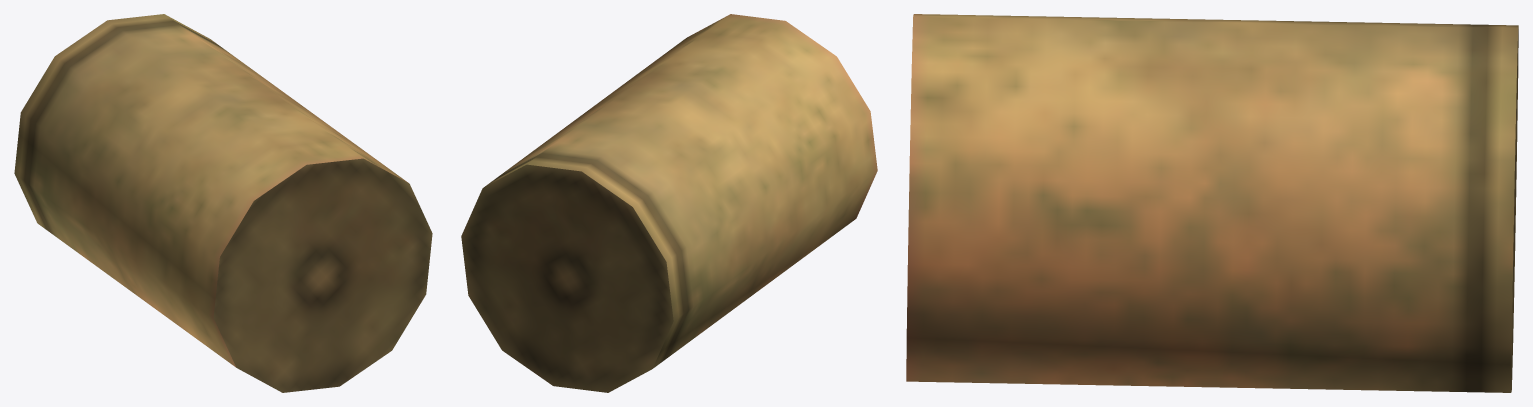
File: madsonD9_shell.fbx
The picture shows the model from 3 angles, left to right: view 1: azimuth 30°, elevation 25°; view 2: azimuth 150°, elevation 25°; view 3: azimuth 270°, elevation 25°; orthographic projection. The views are drawn at different scales.
Parts seen in each view (by area): view 1: madsond9_shell; view 2: madsond9_shell; view 3: madsond9_shell.
Part boxes in pixels (x1,y1,x2,y2): madsond9_shell: (14, 14, 432, 392); madsond9_shell: (461, 14, 877, 392); madsond9_shell: (906, 14, 1518, 392).
Bounding box in the file's own units: 0.00973 × 0.00976 × 0.0156.
